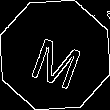M_N: (25, 23, 85, 87)
